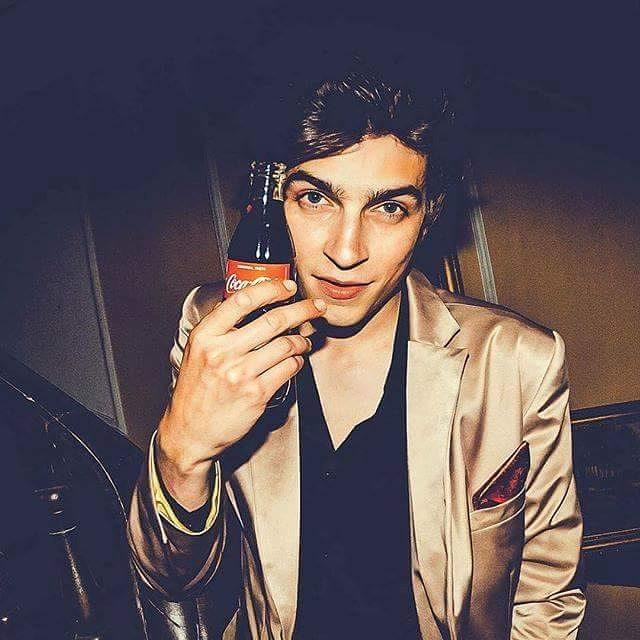coca-cola: (222, 153, 299, 412)
